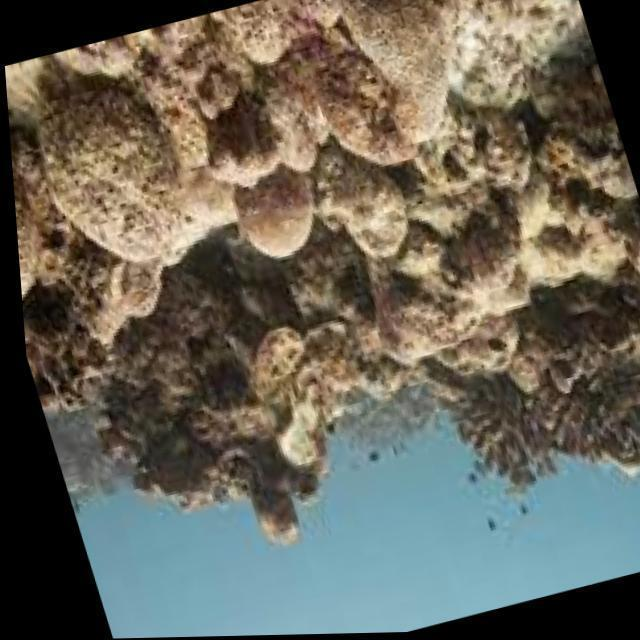Dead Coral: (0, 0, 560, 330), (68, 252, 382, 575), (386, 273, 640, 535)
